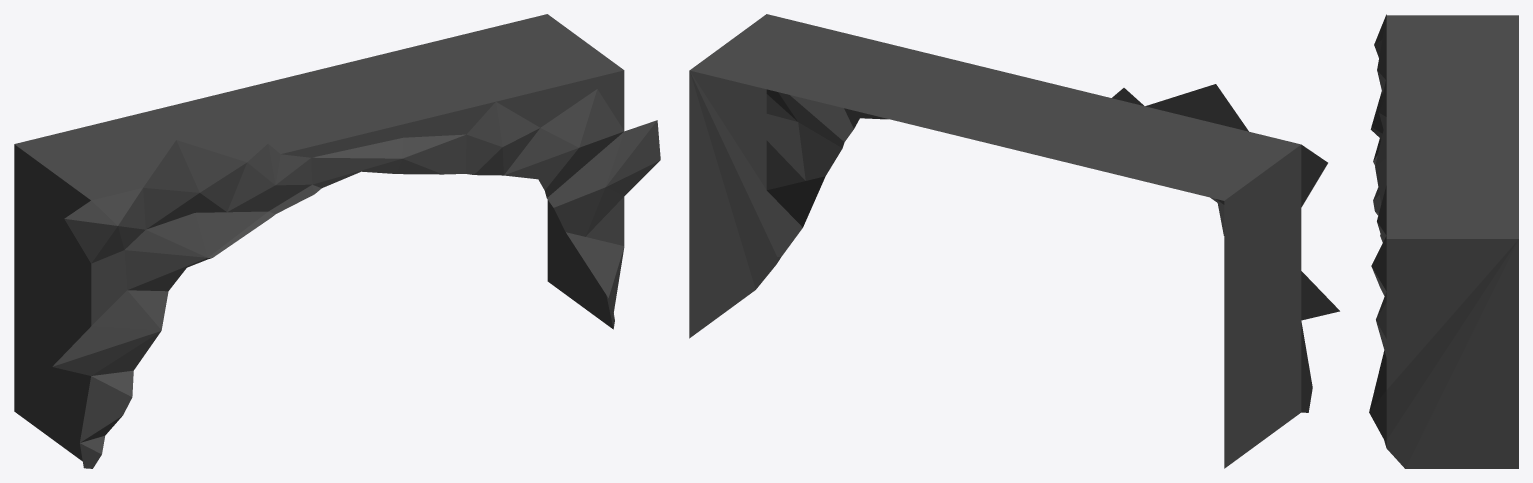
The model's file is Wall_Stone_Vault_Small.fbx.
3 renders of one model, left to right at view 1: azimuth 30°, elevation 25°; view 2: azimuth 150°, elevation 25°; view 3: azimuth 270°, elevation 25°, orthographic. The views are drawn at different scales.
Visible parts, largest first — view 1: Wall_Stone_Vault_Small; view 2: Wall_Stone_Vault_Small; view 3: Wall_Stone_Vault_Small.
Boxes of the visible parts, x1=… form: Wall_Stone_Vault_Small: x1=14, y1=14, x2=660, y2=468; Wall_Stone_Vault_Small: x1=689, y1=14, x2=1339, y2=468; Wall_Stone_Vault_Small: x1=1369, y1=14, x2=1518, y2=468.
Bounding box in the file's own units: 913 × 440 × 226.
